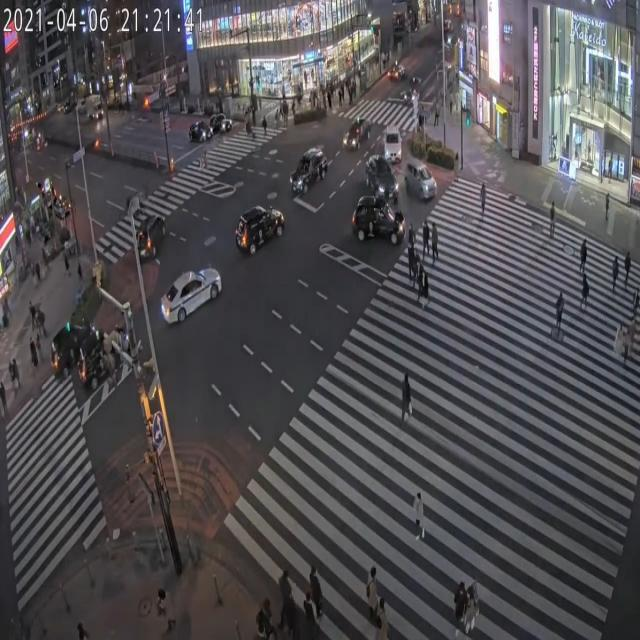humans: (406, 482, 427, 558), (464, 581, 488, 640), (364, 566, 385, 626), (311, 555, 326, 625), (402, 363, 418, 428), (453, 575, 469, 637), (552, 276, 566, 338), (250, 601, 272, 640), (302, 593, 318, 640), (577, 234, 591, 280), (278, 564, 290, 614), (622, 247, 634, 293), (284, 594, 296, 640), (629, 283, 640, 333), (378, 601, 394, 635), (610, 253, 622, 297), (405, 242, 417, 284), (414, 256, 426, 296), (547, 203, 558, 246), (419, 272, 430, 311), (612, 318, 622, 359), (409, 220, 418, 265), (430, 222, 440, 262), (578, 275, 590, 308), (479, 183, 489, 218), (623, 320, 630, 366), (422, 220, 428, 260)
